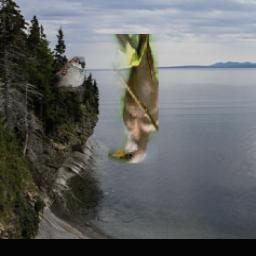Cuckoo: (109, 35, 160, 164)
Sparrow: (57, 56, 86, 92)
